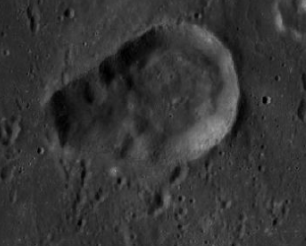crater: (26, 17, 261, 199)
